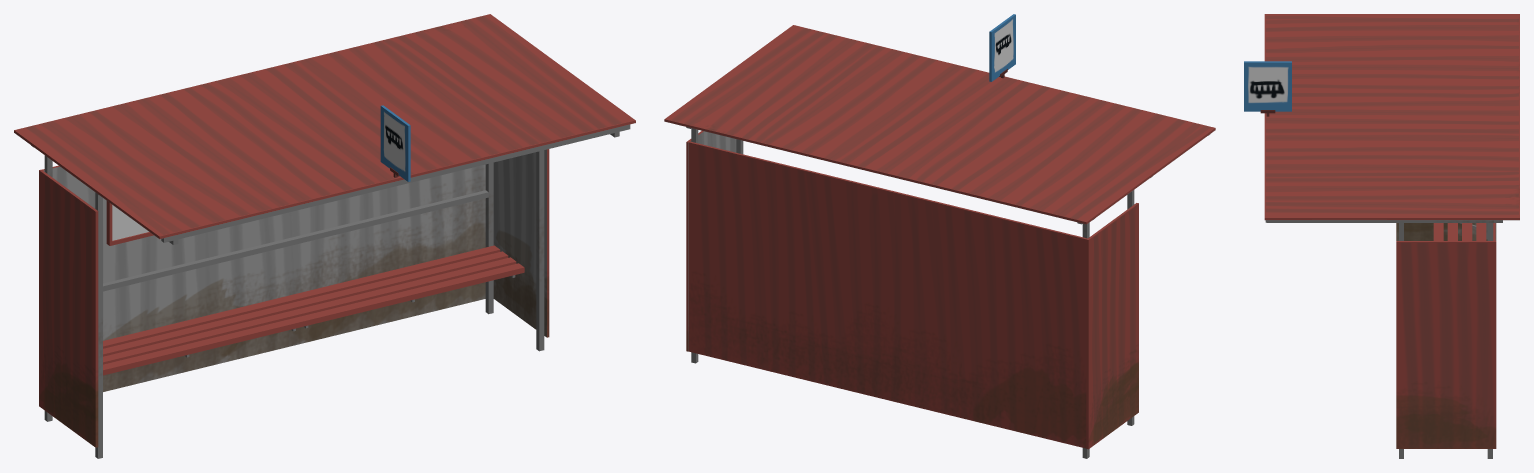
The model's file is busstop.fbx.
The picture shows the model from 3 angles, left to right: view 1: azimuth 30°, elevation 25°; view 2: azimuth 150°, elevation 25°; view 3: azimuth 270°, elevation 25°; orthographic projection. The views are drawn at different scales.
Parts seen in each view (by area): view 1: busstop; view 2: busstop; view 3: busstop.
Part boxes in pixels (x1,y1,x2,y2): busstop: (14,14,635,458); busstop: (664,14,1215,458); busstop: (1244,14,1519,458).
Size of the model in its own units: 380 by 262 by 217.
